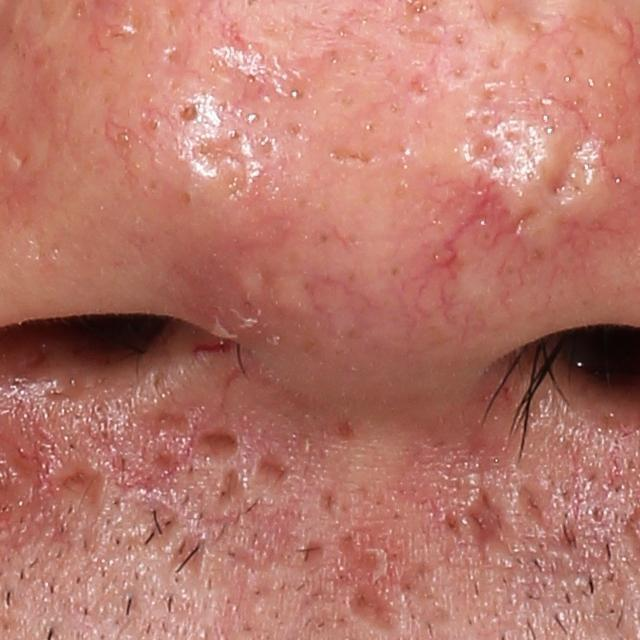atrophic_scar: (181, 129, 258, 185), (540, 137, 600, 201), (48, 458, 105, 505), (467, 487, 506, 555), (343, 587, 397, 632), (140, 400, 193, 439), (192, 424, 240, 465), (252, 452, 294, 492), (519, 478, 553, 525), (176, 529, 208, 575), (297, 535, 327, 572)
hypertrophic_scar: (324, 411, 427, 525)
